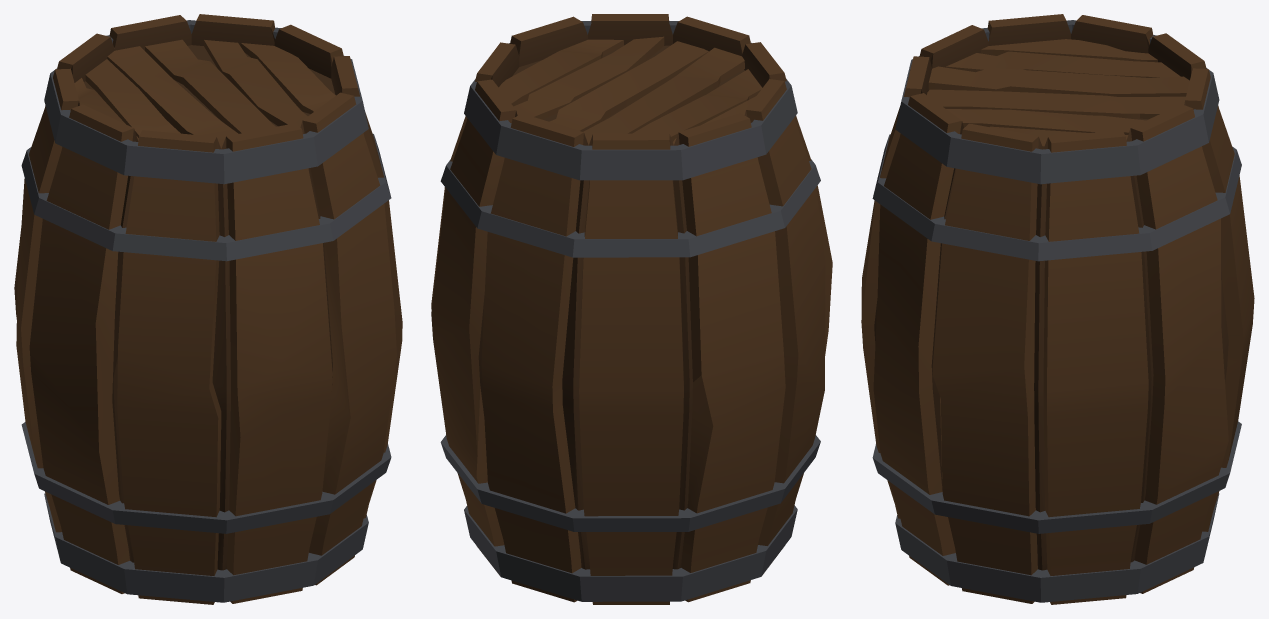
Rendered from barril.fbx.
3 renders of one model, left to right at view 1: azimuth 30°, elevation 25°; view 2: azimuth 150°, elevation 25°; view 3: azimuth 270°, elevation 25°, orthographic.
Parts seen in each view (by area): view 1: Barrel; view 2: Barrel; view 3: Barrel.
Boxes of the visible parts, x1,y1,x2,y2 form: Barrel: [14, 14, 402, 604]; Barrel: [431, 14, 832, 604]; Barrel: [861, 14, 1254, 604].
Bounding box in the file's own units: 15.82 × 20.43 × 15.68.
